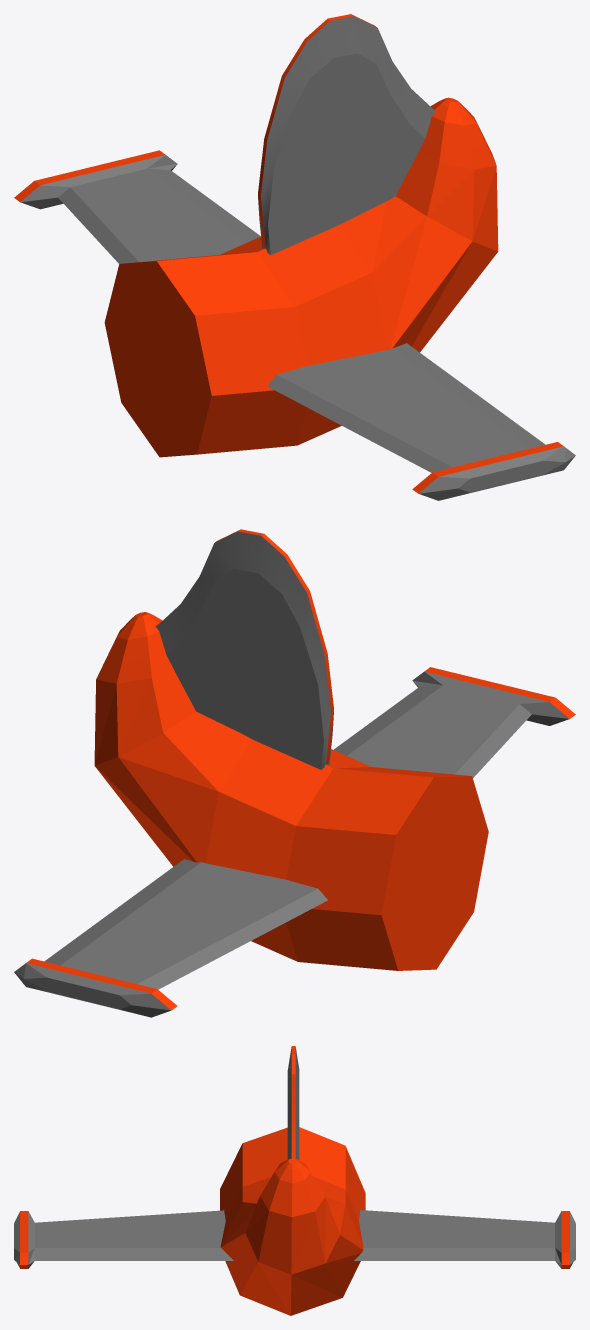
File: Moteur_3.FBX
The picture shows the model from 3 angles, top to bottom: view 1: azimuth 30°, elevation 25°; view 2: azimuth 150°, elevation 25°; view 3: azimuth 270°, elevation 25°; orthographic projection. The views are drawn at different scales.
Visible parts, largest first — view 1: Cone012; view 2: Cone012; view 3: Cone012.
Boxes of the visible parts, x1,y1,x2,y2 form: Cone012: (14,14,575,500); Cone012: (14,529,575,1017); Cone012: (14,1046,575,1315).
Bounding box in the file's own units: 33.53 × 39.36 × 71.96.
